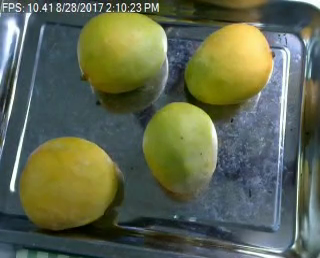Mango: (15, 136, 120, 229), (77, 11, 165, 92), (183, 24, 272, 102), (141, 101, 216, 193)
